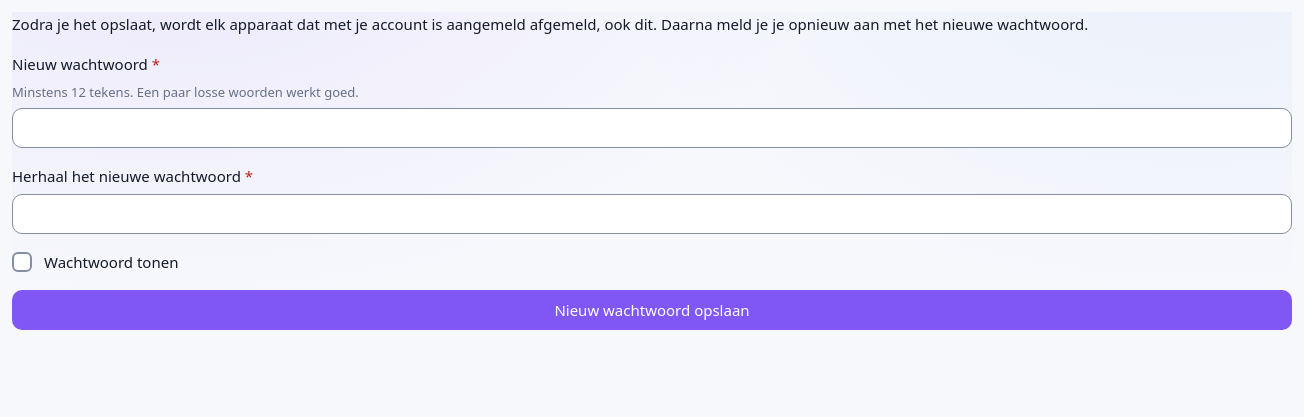
ResetPasswordForm › explains an expired or used link, in Dutch too
The image size is (1304, 417).
Type "correct horse battery" into the password field labelled "Nieuw wachtwoord *" at (652, 128), box [12,108,1292,148]
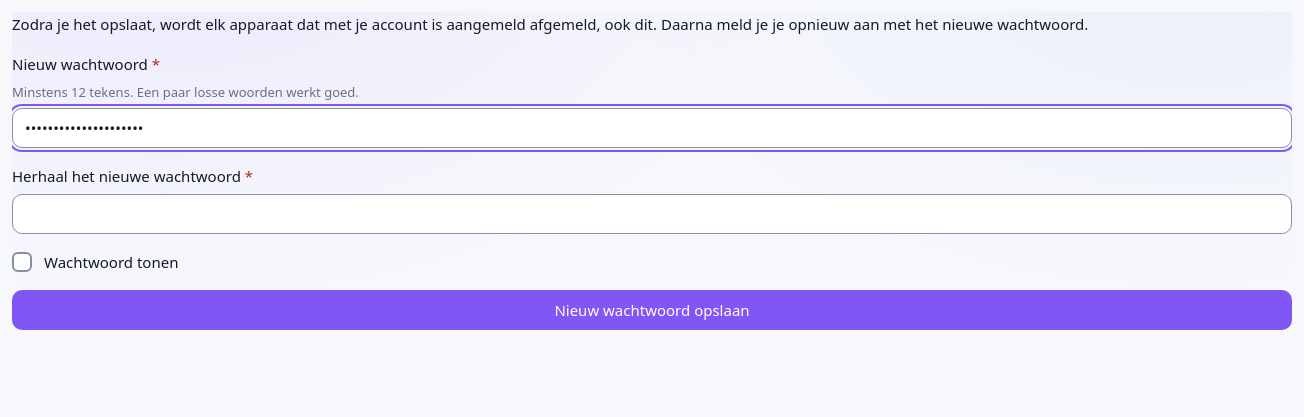
Type "correct horse battery" into the password field labelled "Herhaal het nieuwe wachtwoord *" at (652, 214), box [12,194,1292,234]
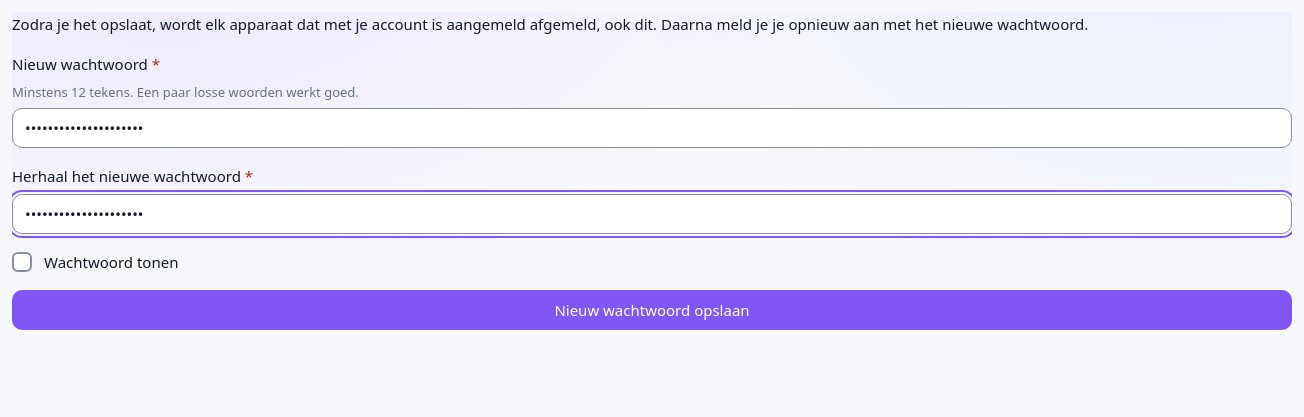
Click the button "Nieuw wachtwoord opslaan" at (652, 310), box [12,290,1292,330]
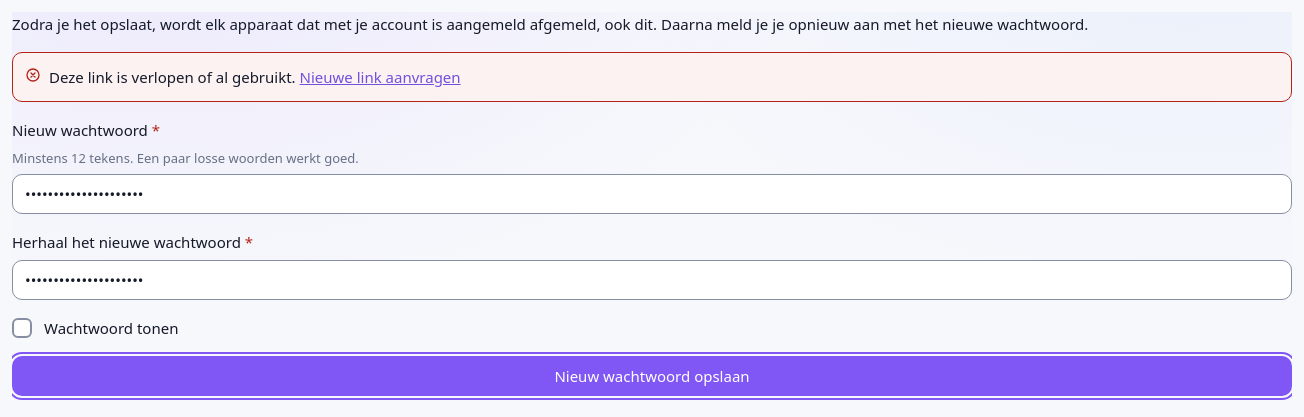
Result: the message shows "Deze link is verlopen of al gebruikt." at [49,67,296,87]
